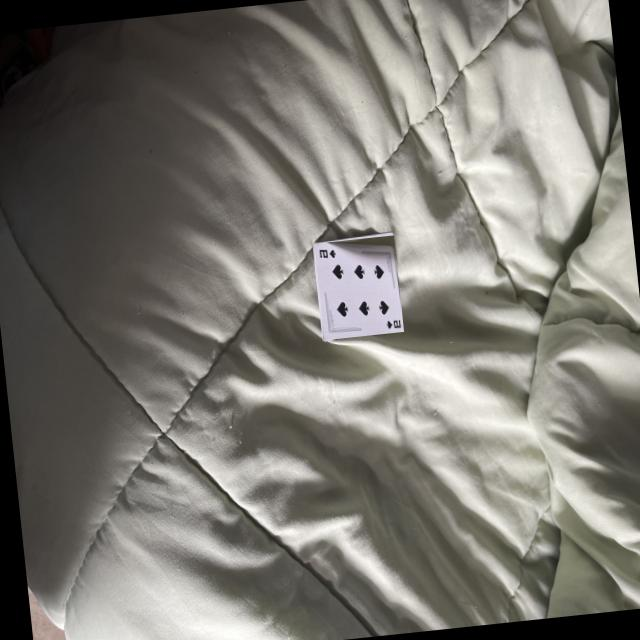6 of spades: (312, 243, 402, 339)
